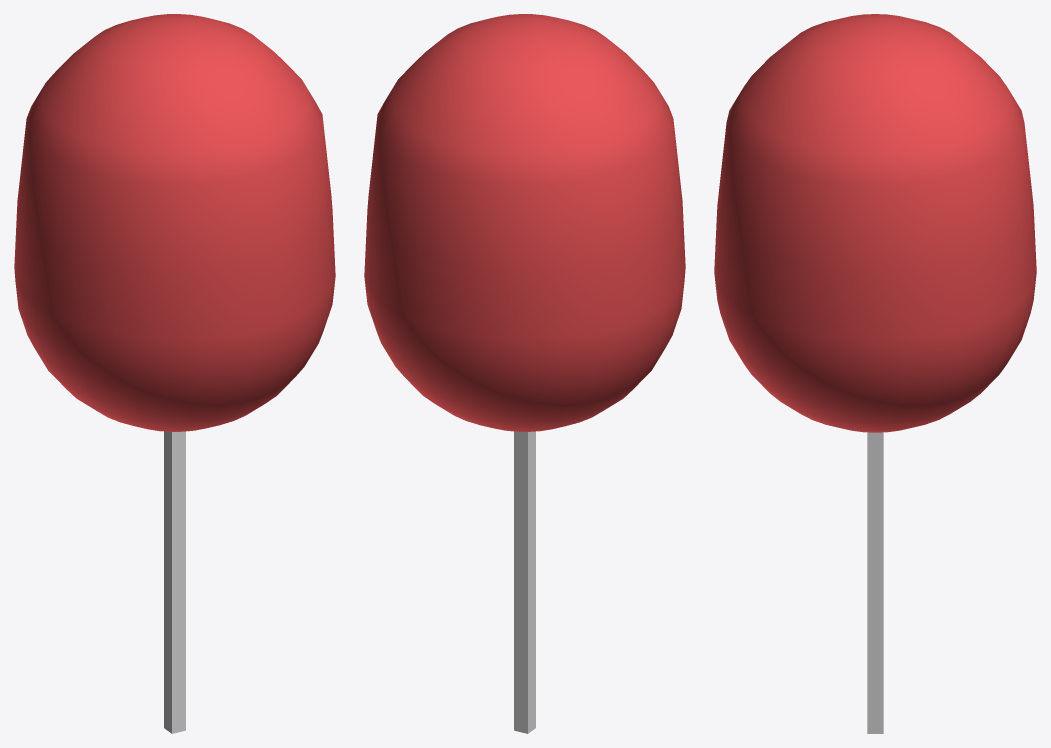
Rendered from balloon.fbx.
3 renders of one model, left to right at view 1: azimuth 30°, elevation 25°; view 2: azimuth 150°, elevation 25°; view 3: azimuth 270°, elevation 25°, orthographic.
Parts seen in each view (by area): view 1: Sphere; view 2: Sphere; view 3: Sphere.
Boxes of the visible parts, bbox=[...] form: Sphere: bbox=[14, 14, 335, 733]; Sphere: bbox=[364, 14, 685, 733]; Sphere: bbox=[714, 14, 1036, 733].
Bounding box in the file's own units: 200 × 480 × 200.
